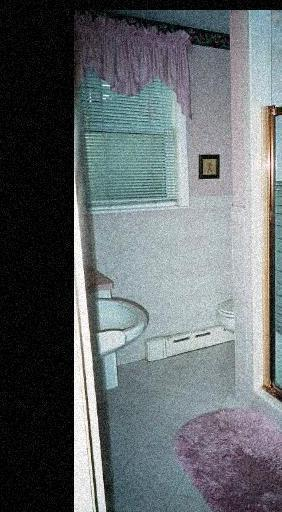Ducha: (253, 102, 282, 411)
Lavamanos: (95, 300, 147, 347)
